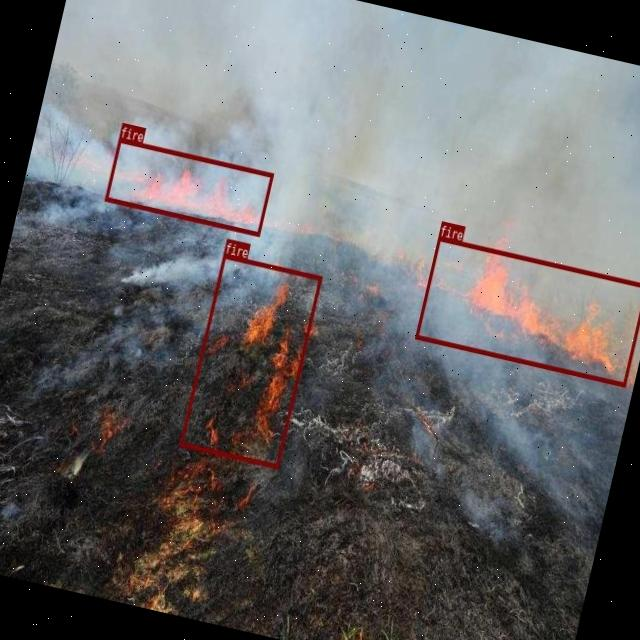fire: (414, 236, 640, 386), (179, 252, 322, 468), (105, 137, 273, 235)
